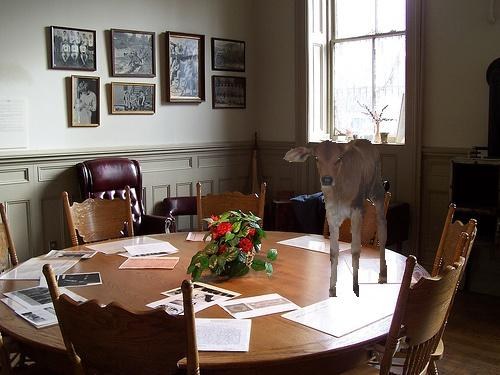tampered: (284, 140, 387, 297)
